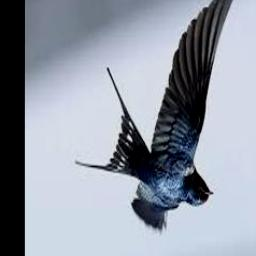Swallow: (75, 0, 241, 234)
